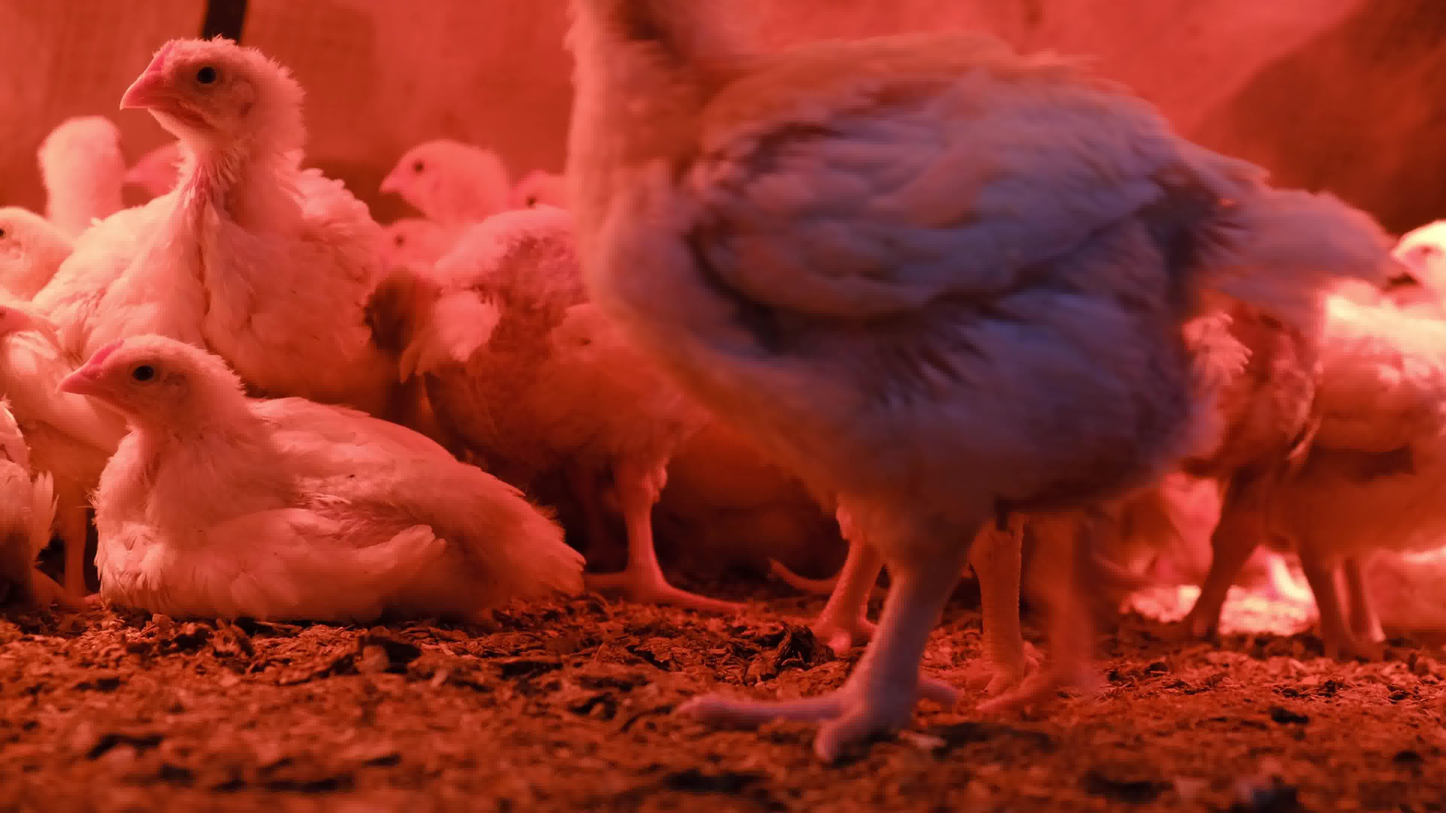AbNormal: (55, 333, 585, 614), (0, 296, 49, 614)
Normal: (571, 0, 1343, 760), (415, 210, 752, 618), (37, 36, 398, 396), (1155, 215, 1446, 652), (0, 206, 114, 595), (381, 136, 509, 223), (42, 117, 126, 232), (507, 164, 584, 217)
